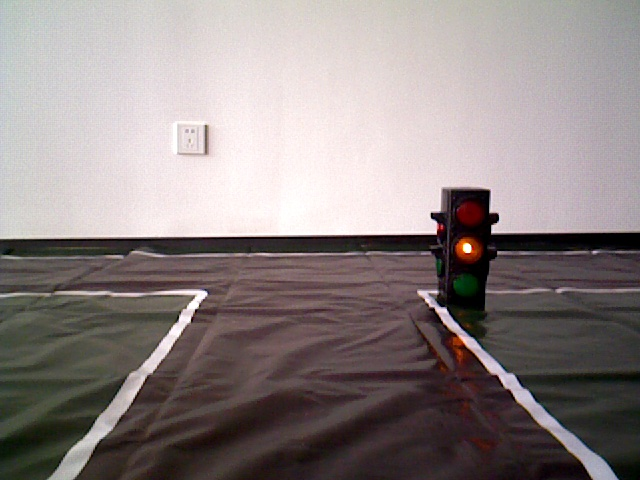yellow: (441, 193, 490, 300)
